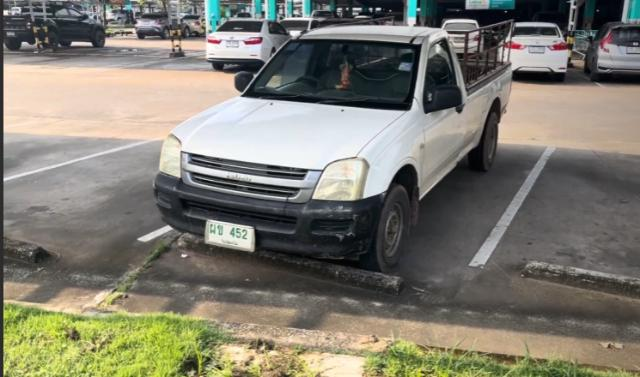pickup-truck: (152, 23, 516, 277)
